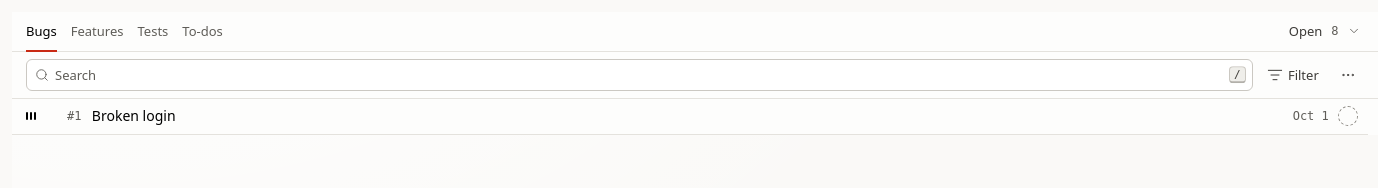
BugList › renders open rows by default and switches status using counts from props
The image size is (1378, 188).
Expected: the option "#1 Broken login Oct 1" is shown, left=12, top=99, right=1368, bottom=135
Expected: the option "#2 Fixed layout" is not shown
Click the button with aria-label "Status: Open" at {"x": 1325, "y": 32}, box left=1279, top=18, right=1371, bottom=46
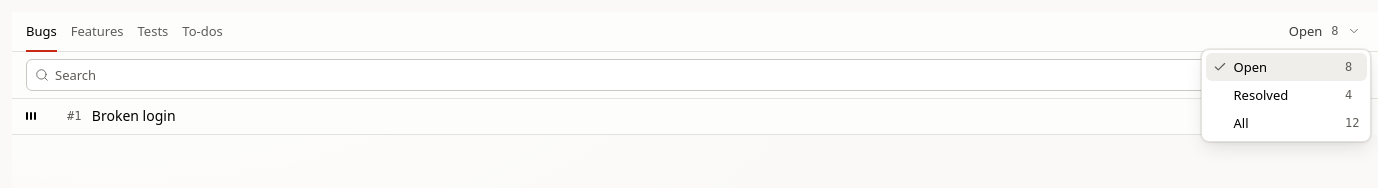
Expected: the menu item "Resolved 4" is shown
Expected: the menu item "All 12" is shown, left=1206, top=110, right=1366, bottom=138
Click the menu item "Resolved 4" at {"x": 1286, "y": 96}, box left=1206, top=82, right=1366, bottom=110
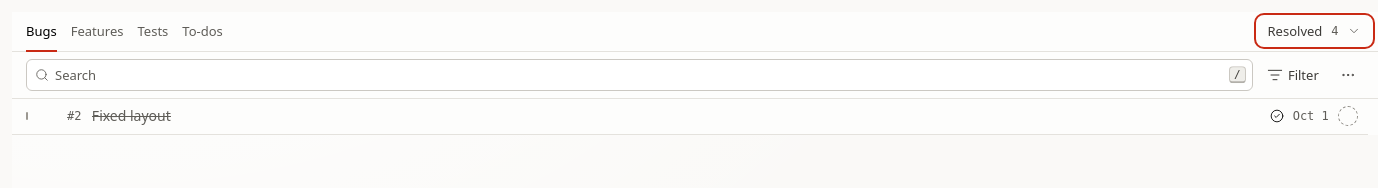
Expected: the option "#2 Fixed layout Oct 1" is shown, left=12, top=99, right=1368, bottom=135
Expected: the option "#1 Broken login" is gone
Click the button with aria-label "Status: " at {"x": 1314, "y": 32}, box left=1258, top=18, right=1371, bottom=46
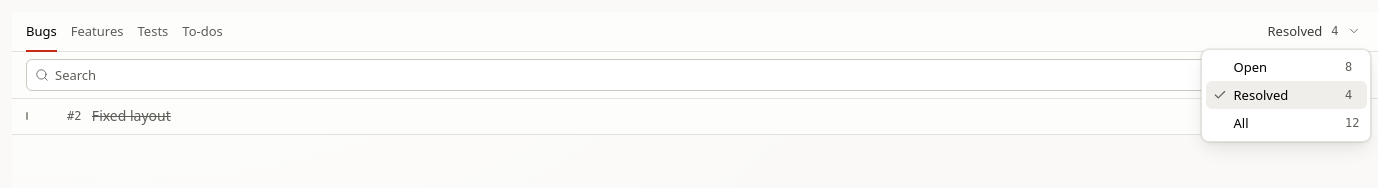
Click the menu item "All 12" at {"x": 1286, "y": 124}, box left=1206, top=110, right=1366, bottom=138
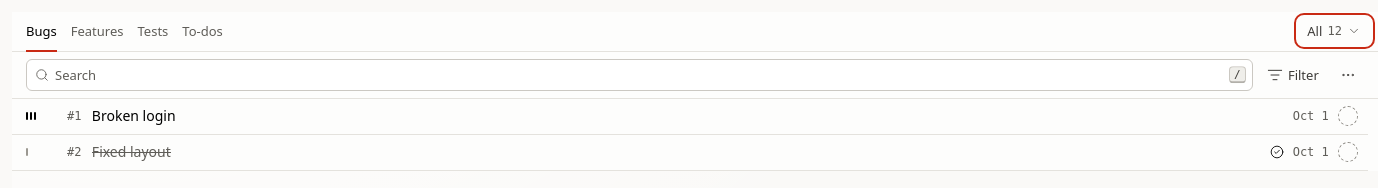
Expected: the number of options is 2, left=12, top=99, right=1368, bottom=135; left=12, top=135, right=1368, bottom=171
